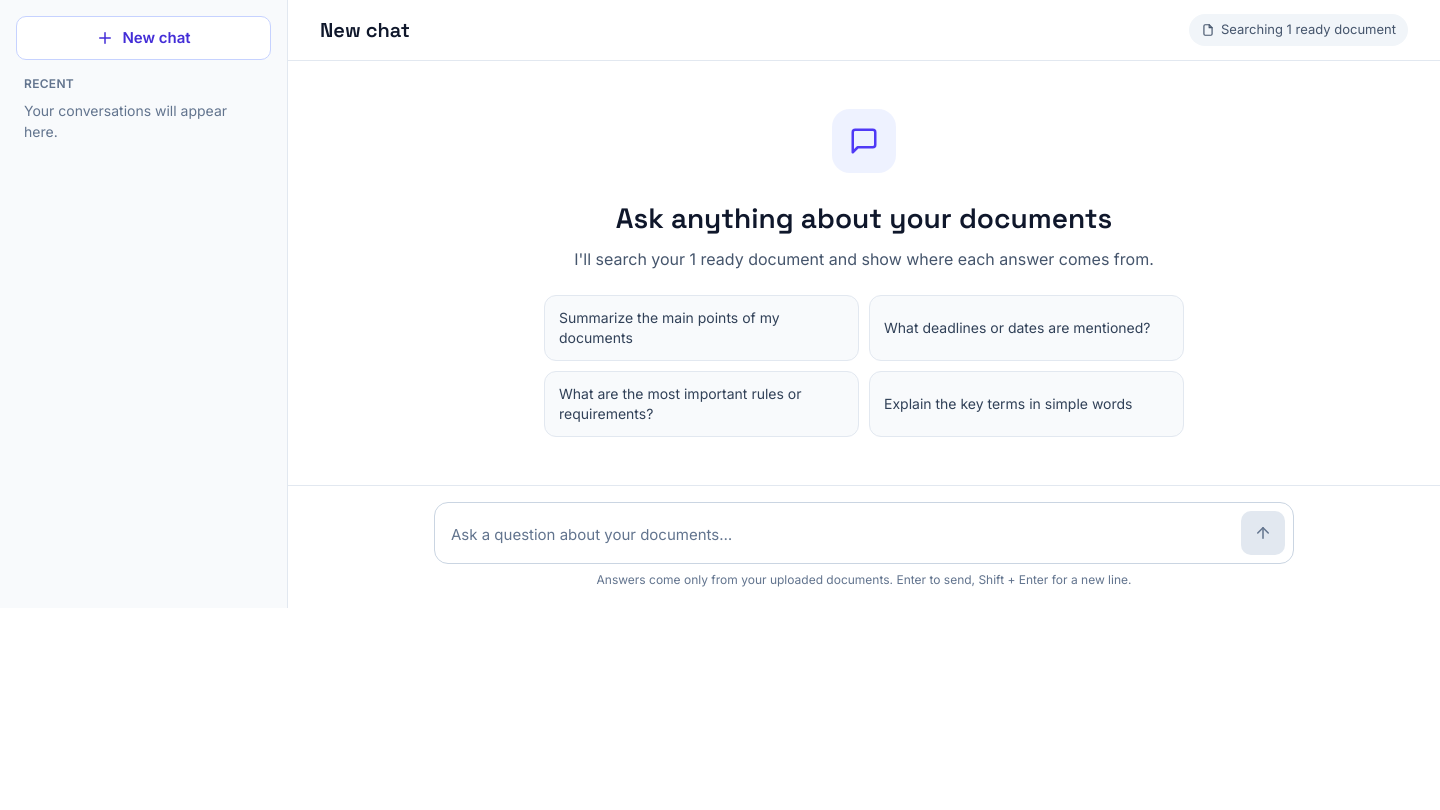
ChatPage › shows the error and lets the user try the same question again
In the text box named "Your question": (841,535) top-left (451, 516), bottom-right (1231, 554), type "How many days of annual leave do employees get?"
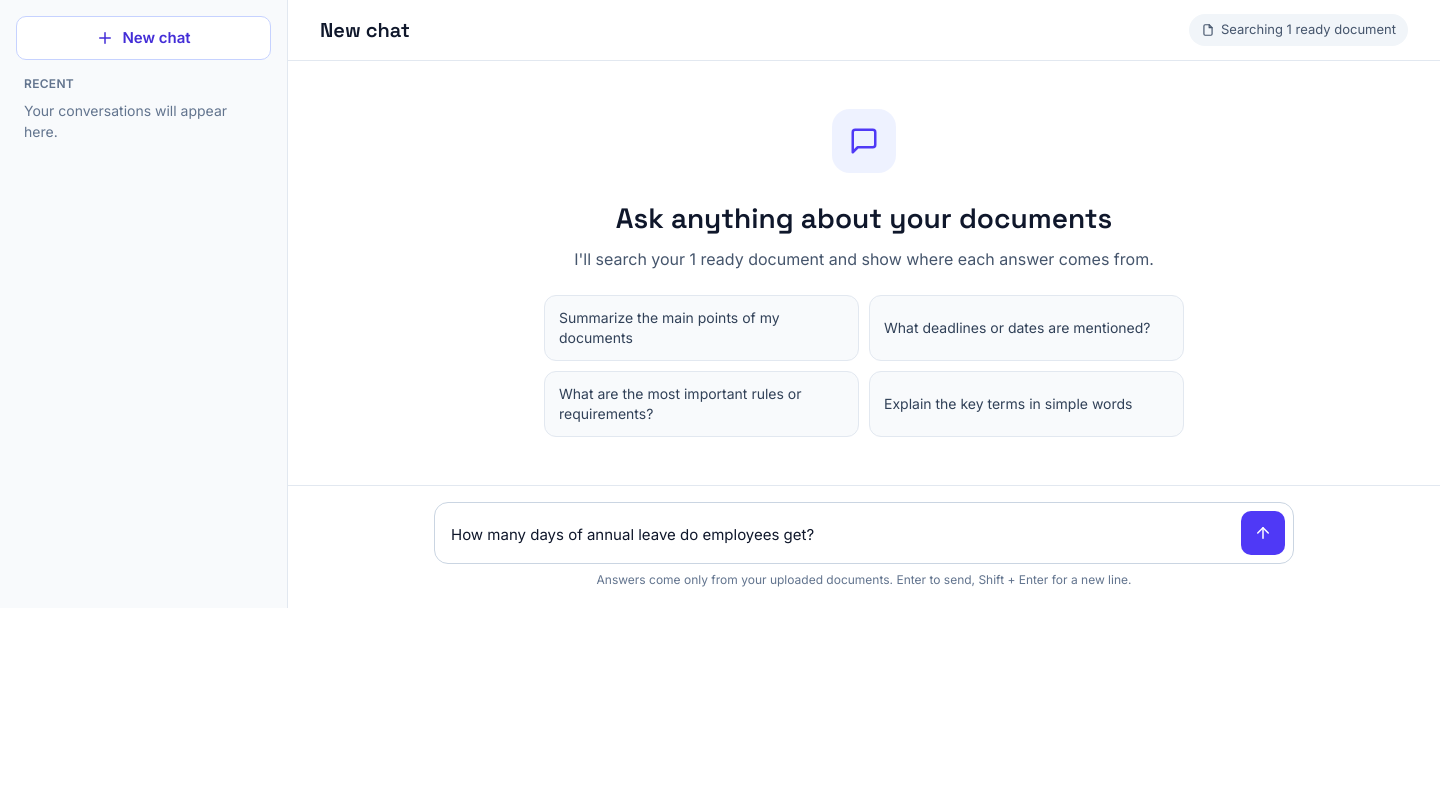
Press Enter in the text box named "Your question", box top-left (451, 516), bottom-right (1231, 554)
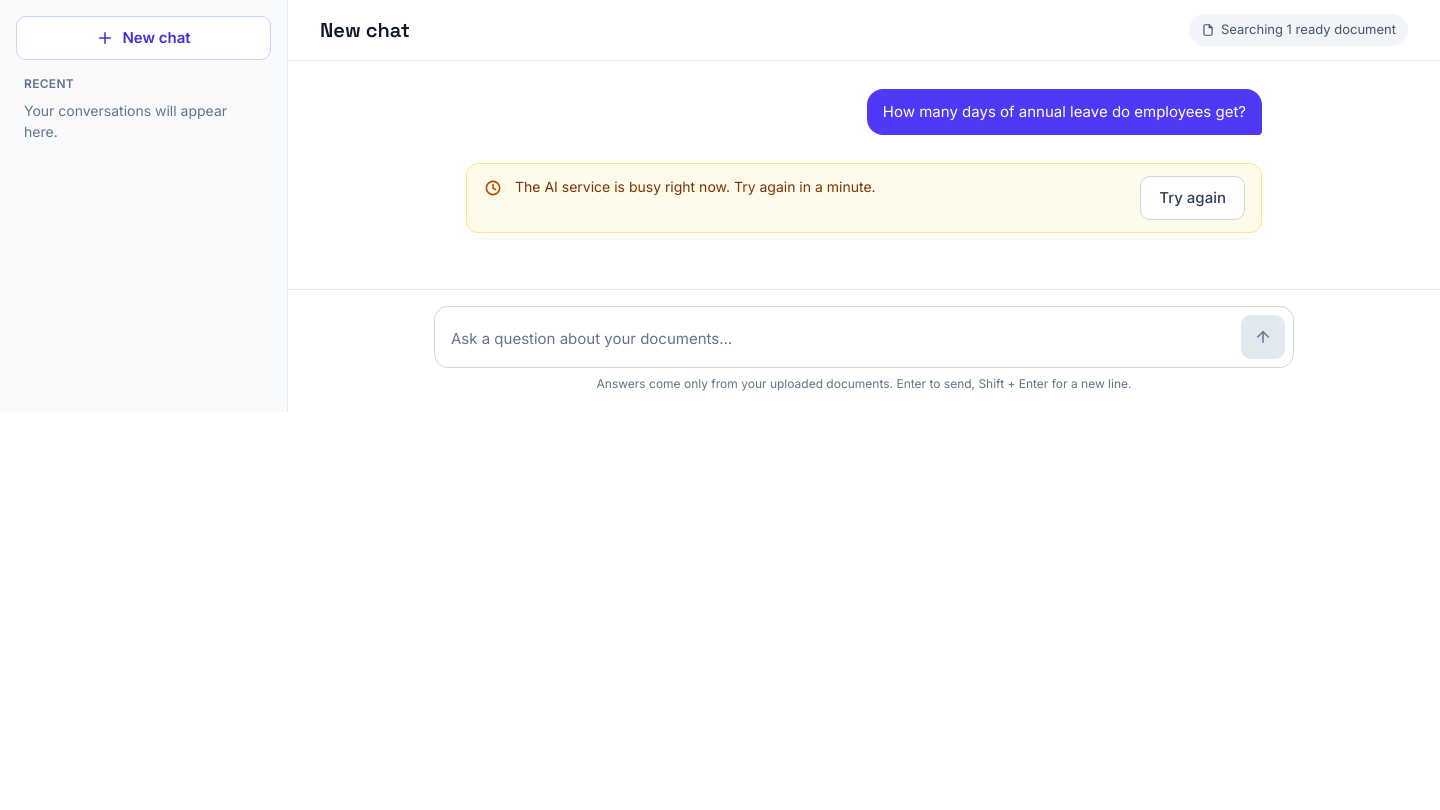
Click the button "Try again": (1193,198) top-left (1140, 176), bottom-right (1245, 220)
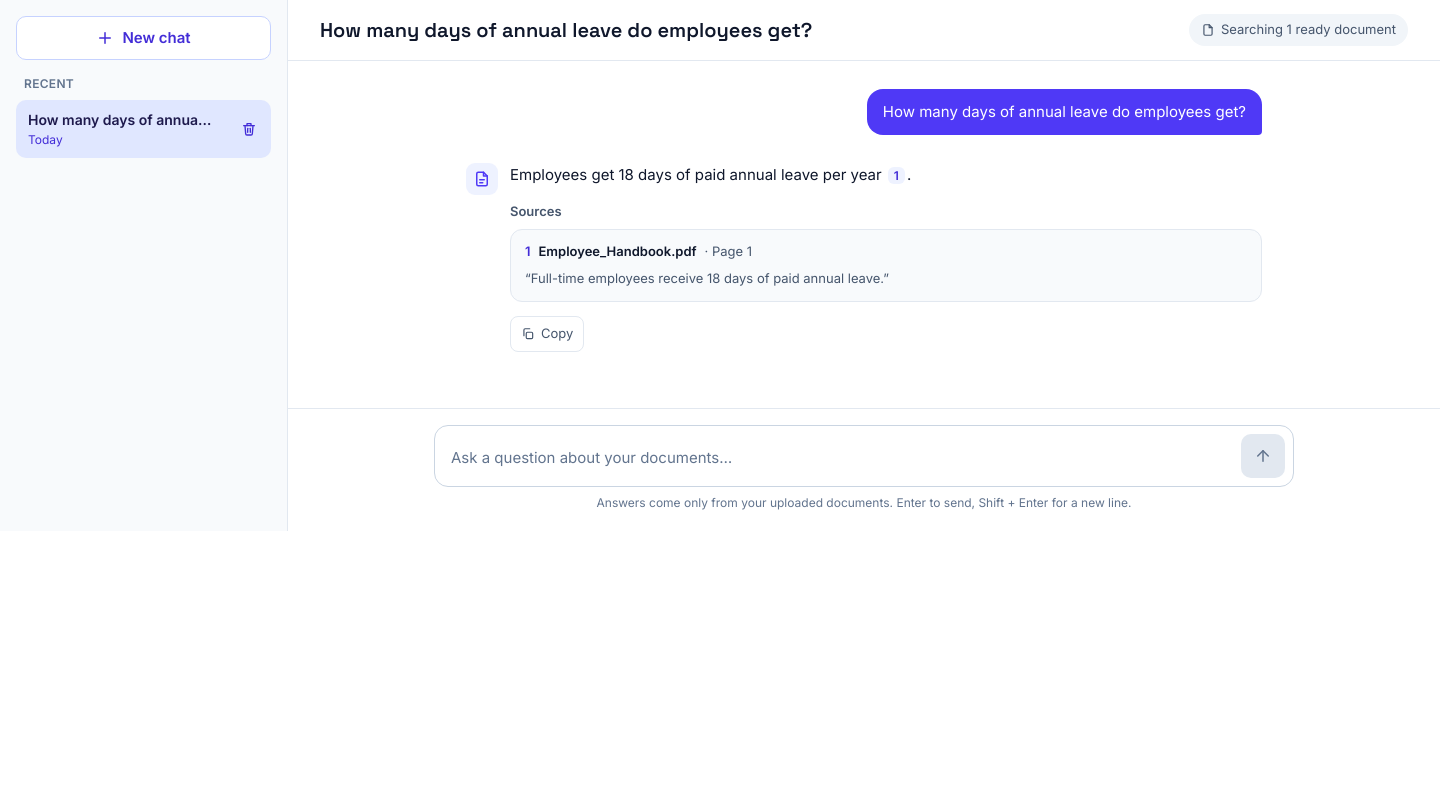
Result: the text "Employees get 18 days of paid annual leave per year" is shown at top-left (510, 165), bottom-right (886, 184)
